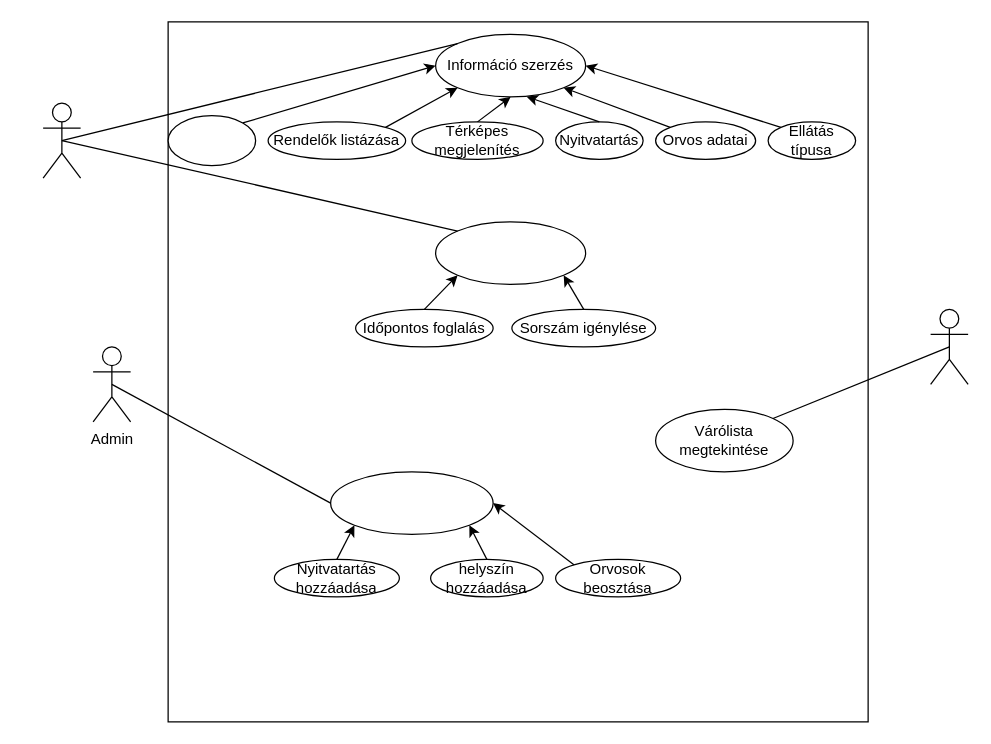
The diagram is 991 pixels wide and 744 high, and some of its shapes have lost their labels. Here are the shapes that lost their labels. From the top down, the box of each, then its label:
(42, 102, 81, 178): Felhasználó
(167, 114, 256, 166): sorszám begyüjtése
(434, 221, 586, 284): Jelentkezés kezelésre
(929, 308, 968, 384): Orvos
(329, 471, 493, 534): Rendelők felvétele
